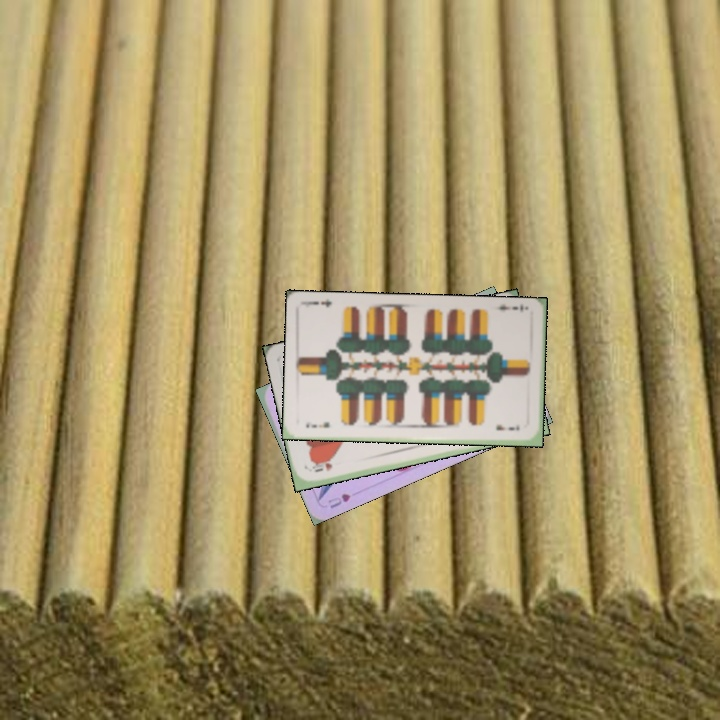E7: (489, 300, 526, 314), (302, 418, 332, 431)
HO: (308, 459, 335, 475)
HU: (324, 489, 353, 511)
